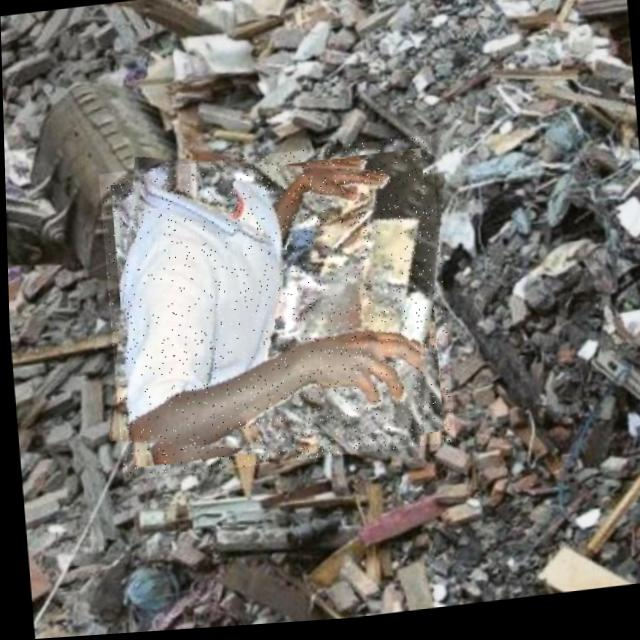Person in Rubble: (97, 140, 453, 483)
